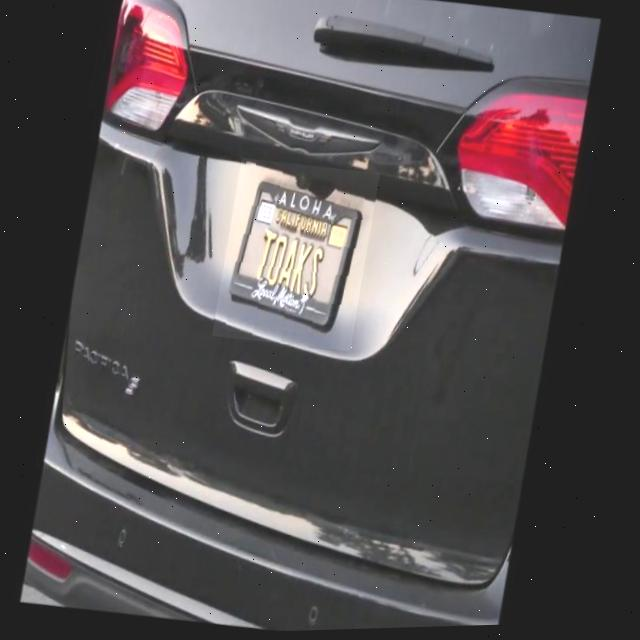LicensePlate: (214, 156, 381, 357)
